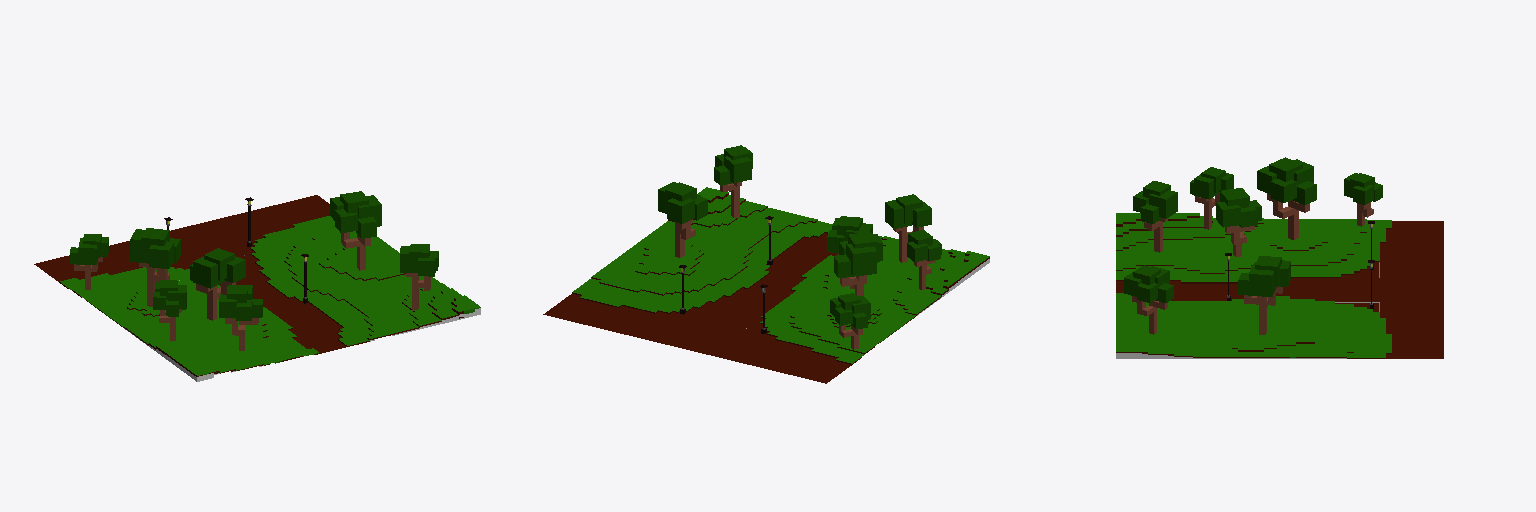
File: worldtest.obj
3 renders of one model, left to right at view 1: azimuth 30°, elevation 25°; view 2: azimuth 150°, elevation 25°; view 3: azimuth 270°, elevation 25°, orthographic.
Visible parts, largest first — view 1: World_Cube; view 2: World_Cube; view 3: World_Cube.
Boxes of the visible parts, <box> form: World_Cube: <box>34,191,480,381</box>; World_Cube: <box>543,145,989,383</box>; World_Cube: <box>1116,157,1443,358</box>.
Size of the model in its own units: 50.48 by 14.79 by 50.